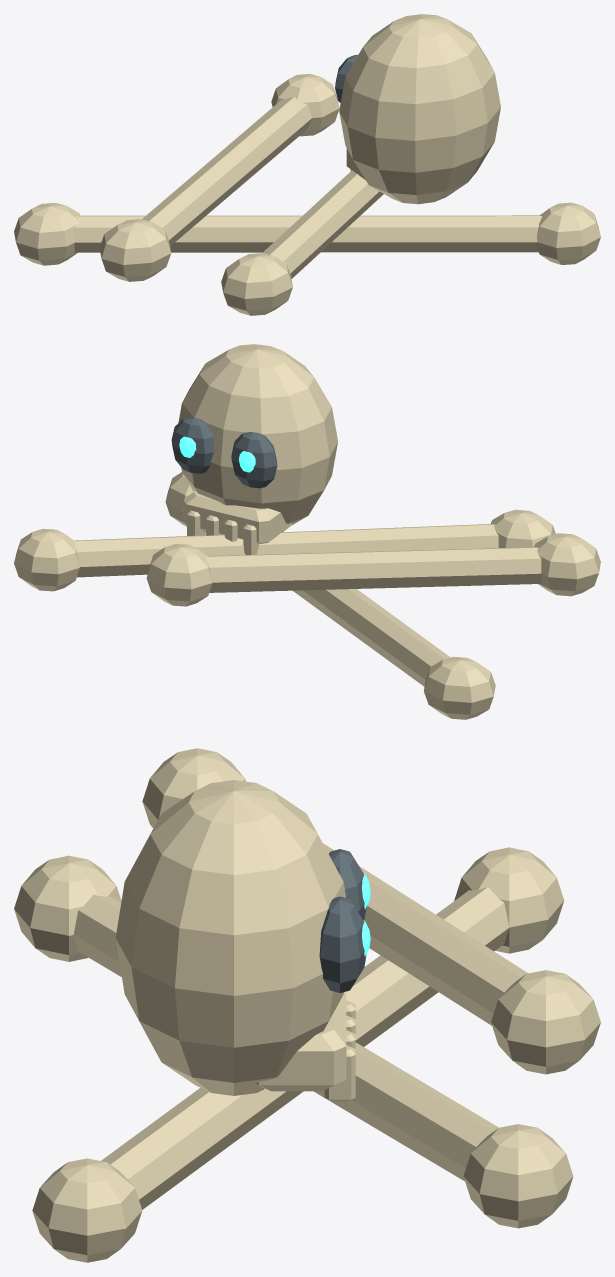
File: source.glb
The picture shows the model from 3 angles, top to bottom: view 1: azimuth 30°, elevation 25°; view 2: azimuth 150°, elevation 25°; view 3: azimuth 270°, elevation 25°; orthographic projection. The views are drawn at different scales.
Visible parts, largest first — view 1: body; view 2: body; view 3: body.
Boxes of the visible parts, x1,y1,x2,y2 form: body: (14,14,600,315); body: (14,344,600,719); body: (14,748,600,1262).
Size of the model in its own units: 0.995 by 0.4618 by 0.64.
